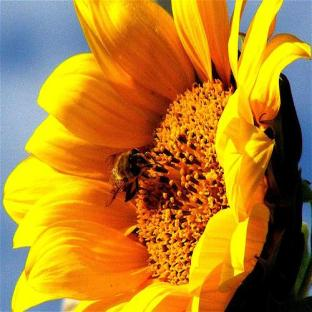sunflower: (2, 0, 312, 312)
